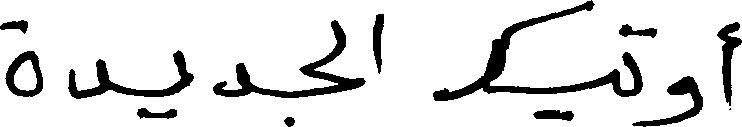X: (436, 0, 593, 125), (300, 15, 364, 101), (0, 15, 41, 101), (625, 19, 643, 126), (68, 54, 107, 103), (668, 71, 702, 126), (723, 17, 741, 114), (173, 45, 193, 122), (216, 58, 250, 101), (610, 23, 621, 101), (373, 9, 383, 78)
